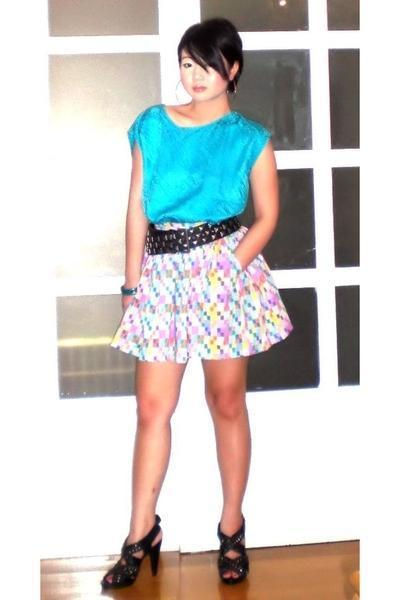shirt: (128, 104, 269, 230)
shoe: (108, 515, 251, 587)
skirt: (111, 228, 292, 371)
